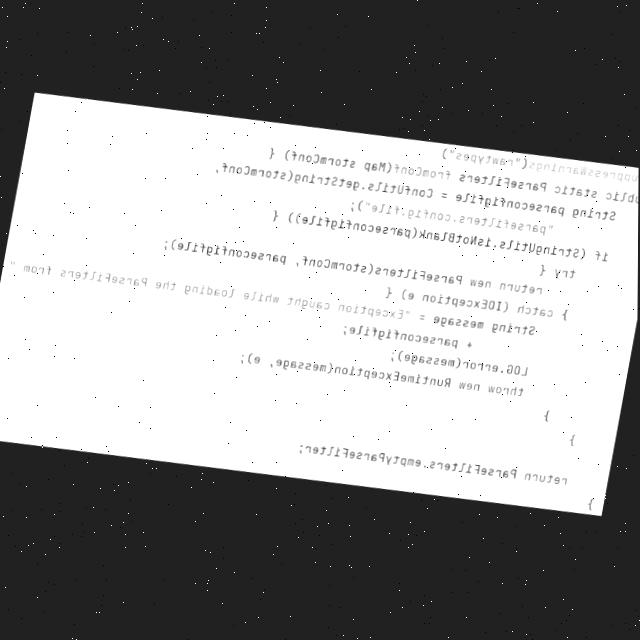code_screen: (0, 94, 638, 513)
